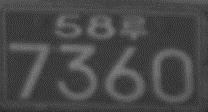0: (150, 47, 194, 105)
3: (56, 42, 98, 102)
5: (54, 13, 82, 39)
6: (103, 44, 146, 104)
7: (8, 41, 51, 100)
8: (86, 13, 115, 39)
루: (119, 13, 147, 41)
